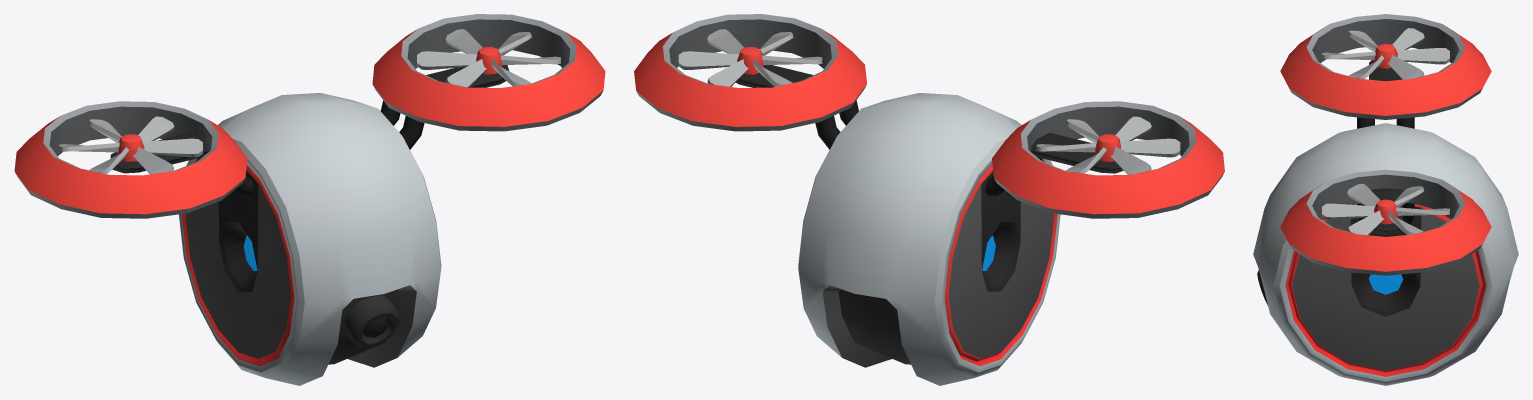
Rendered from Drone_015.glb.
The picture shows the model from 3 angles, left to right: view 1: azimuth 30°, elevation 25°; view 2: azimuth 150°, elevation 25°; view 3: azimuth 270°, elevation 25°; orthographic projection. The views are drawn at different scales.
Visible parts, largest first — view 1: Drone_015, Drone_015_propeller_002, Drone_015_propeller_001, Circle.013; view 2: Drone_015, Drone_015_propeller_002, Drone_015_propeller_001; view 3: Drone_015, Drone_015_propeller_002, Drone_015_propeller_001.
Boxes of the visible parts, x1,y1,x2,y2 form: Drone_015: (14,14,605,385); Drone_015_propeller_002: (59,116,202,174); Drone_015_propeller_001: (417,29,560,87); Circle.013: (344,295,399,347); Drone_015: (634,14,1224,385); Drone_015_propeller_002: (1036,116,1180,174); Drone_015_propeller_001: (678,29,822,86); Drone_015: (1253,14,1518,385); Drone_015_propeller_002: (1322,28,1449,79); Drone_015_propeller_001: (1322,183,1449,235).
Bounding box in the file's own units: 1.31 × 0.6127 × 0.6005.
Materials: 3 (2 with a texture image).
